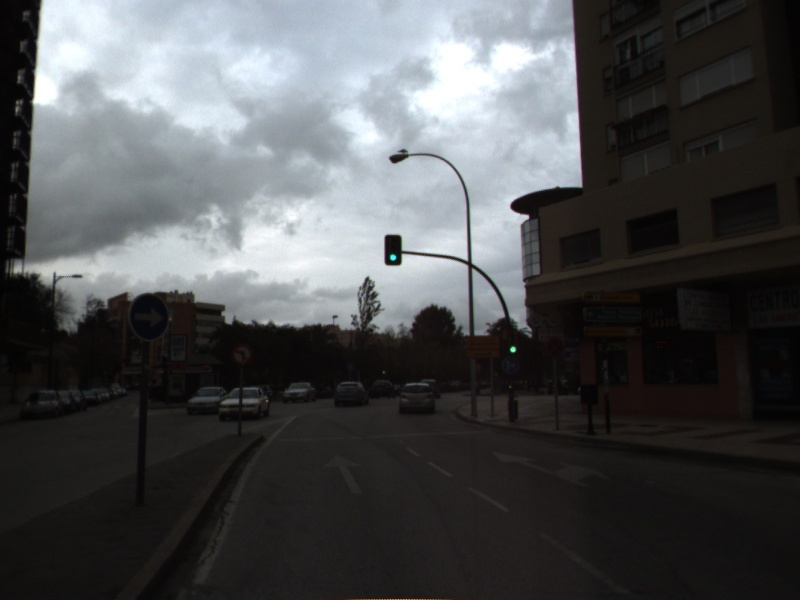STRAIGHT: (321, 451, 365, 496)
STRAIGHT_RIGHT: (489, 448, 612, 489)
